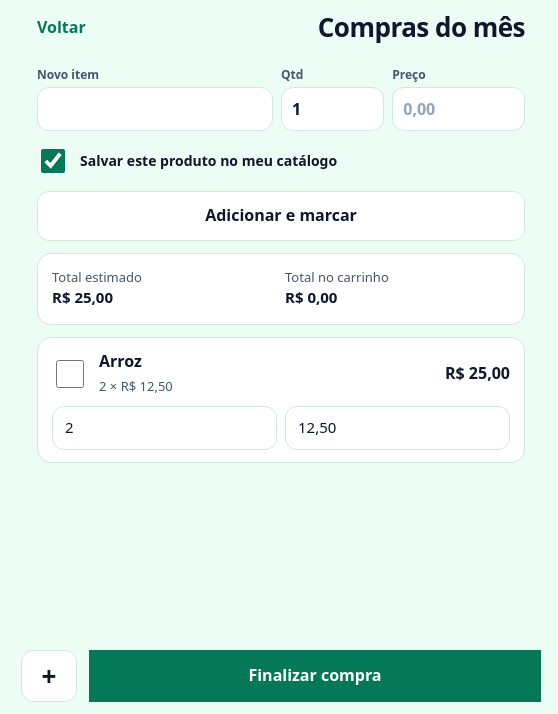
Test: R23: preço e quantidade editáveis no modo compra › recalcula o total ao mudar o preço do item
Replace the text in the field named "preço de arroz" with "20,00" at point(398, 428), box [285,406,510,450]
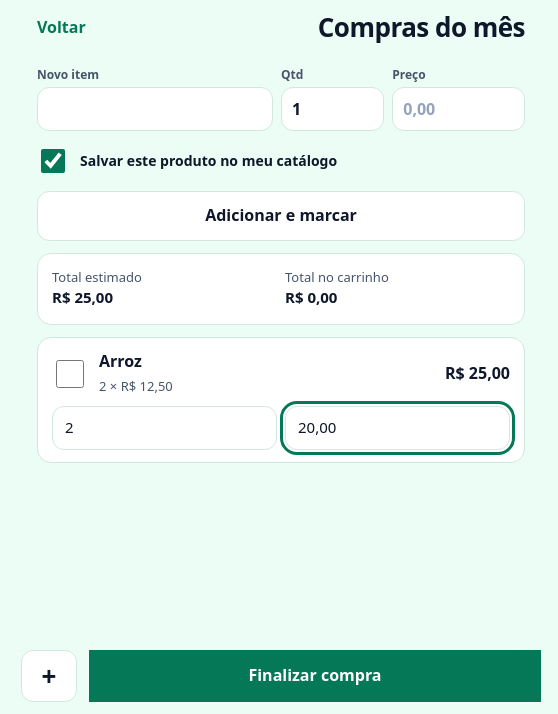
Press Tab
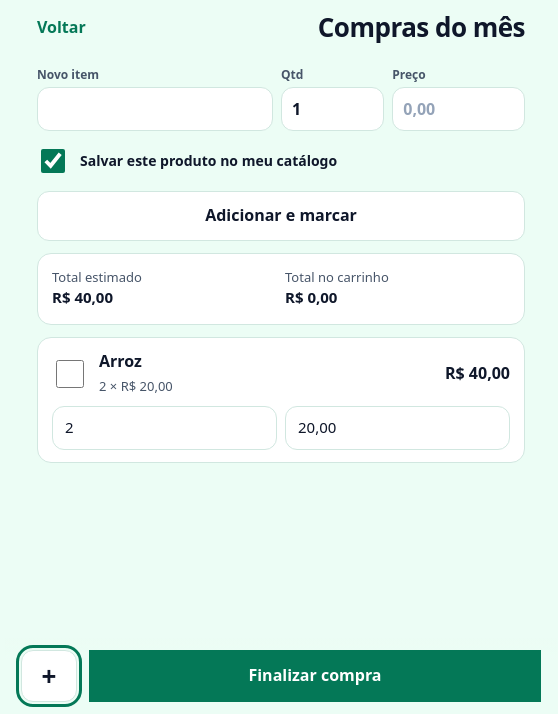
Result: the text with test id "valor-final" reads "R$ 40,00" at [52,287,113,307]
